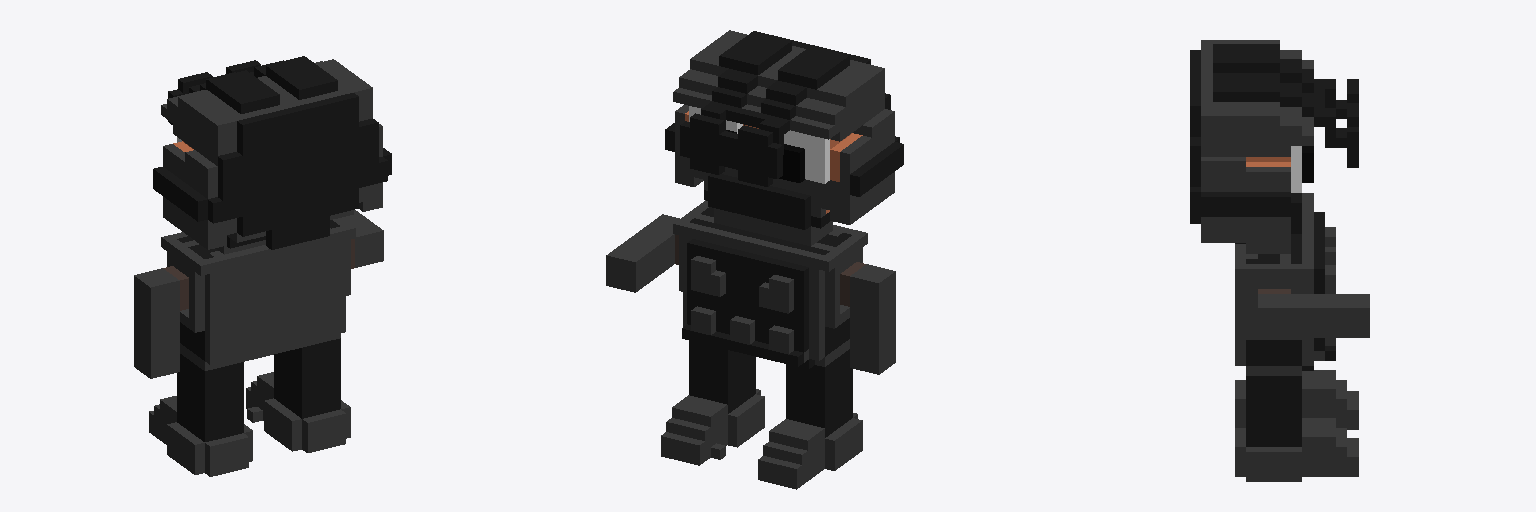
3 renders of one model, left to right at view 1: azimuth 30°, elevation 25°; view 2: azimuth 150°, elevation 25°; view 3: azimuth 270°, elevation 25°, orthographic.
Parts seen in each view (by area): view 1: Model; view 2: Model; view 3: Model.
Part boxes in pixels (left/top/right/bottom): Model: left=134, top=56, right=391, bottom=476; Model: left=606, top=30, right=903, bottom=489; Model: left=1190, top=40, right=1369, bottom=481.
Bounding box in the file's own units: 24 × 37 × 16.
Materials: 1 (1 with a texture image).